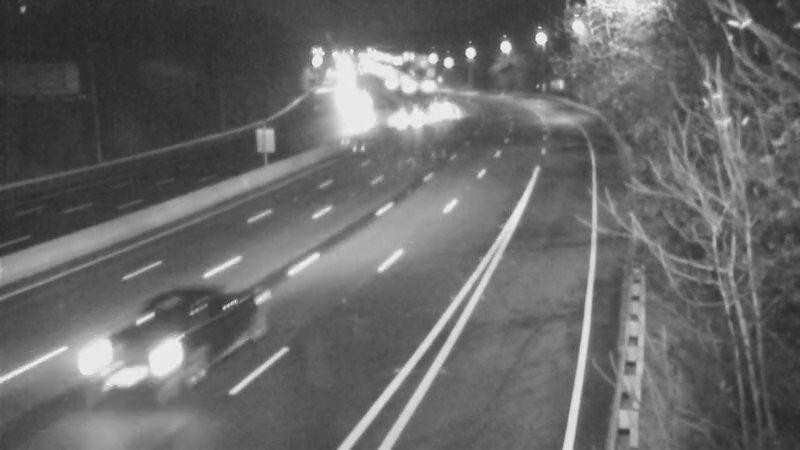vehicle: (75, 317, 185, 427), (398, 58, 448, 108), (406, 95, 456, 145), (368, 100, 418, 150)
